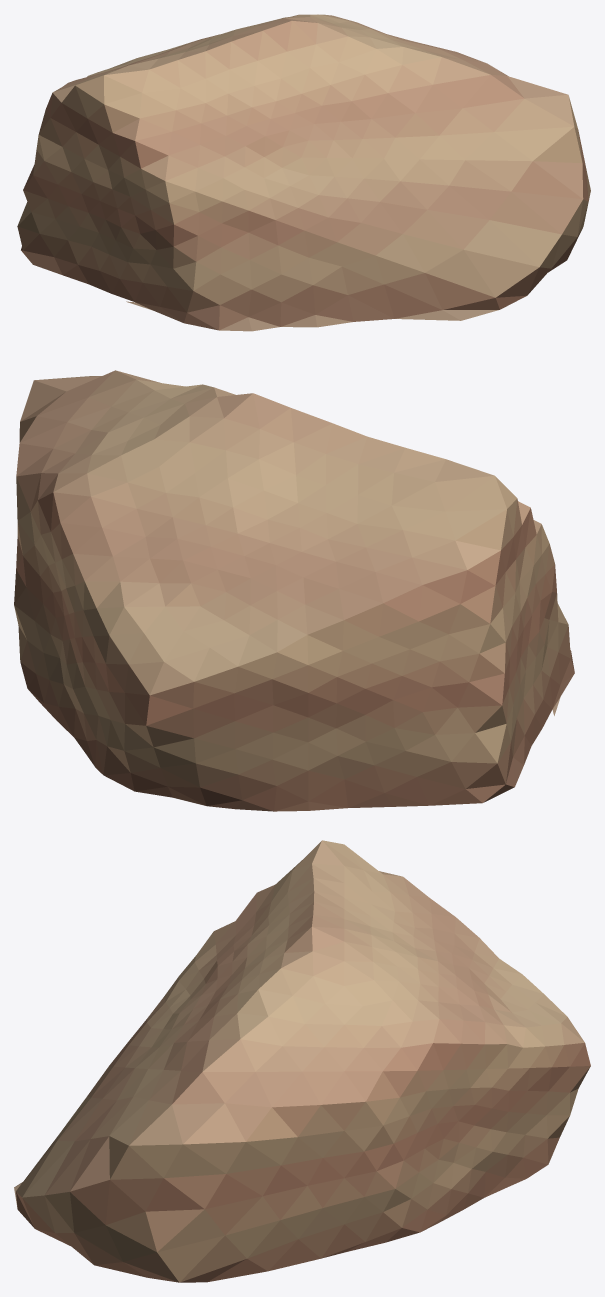
File: rock_5.glb
3 renders of one model, top to bottom at view 1: azimuth 30°, elevation 25°; view 2: azimuth 150°, elevation 25°; view 3: azimuth 270°, elevation 25°, orthographic. The views are drawn at different scales.
Parts seen in each view (by area): view 1: rock; view 2: rock; view 3: rock.
Part boxes in pixels (x1=…): rock: x1=17, y1=14, x2=590, y2=331; rock: x1=14, y1=370, x2=574, y2=811; rock: x1=14, y1=840, x2=590, y2=1282.
Bounding box in the file's own units: 3.2 × 1.39 × 3.04.
